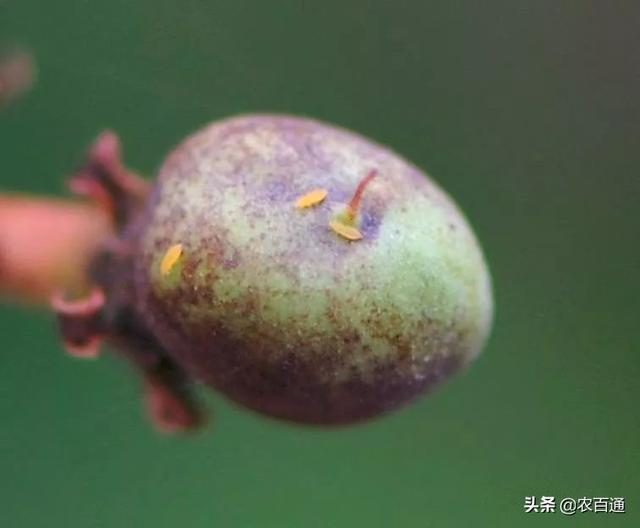thrips: (158, 242, 184, 275), (295, 188, 330, 209), (329, 219, 362, 241)
